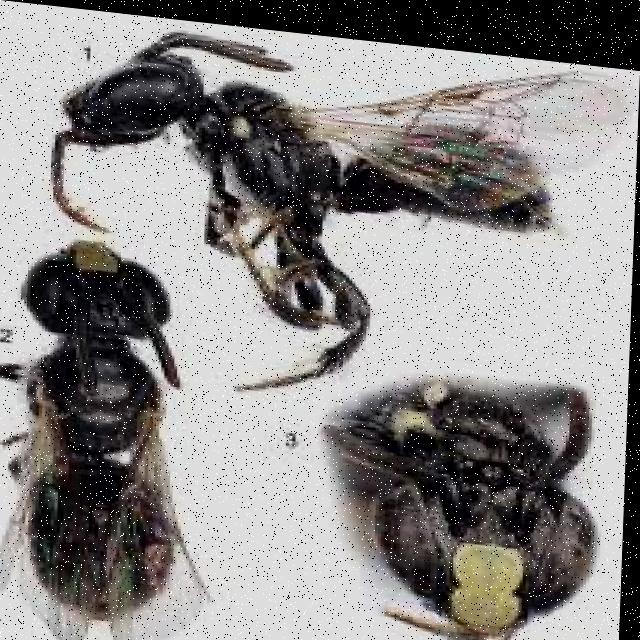Braunsapis: (23, 7, 592, 390), (319, 341, 612, 640), (1, 202, 190, 640)
